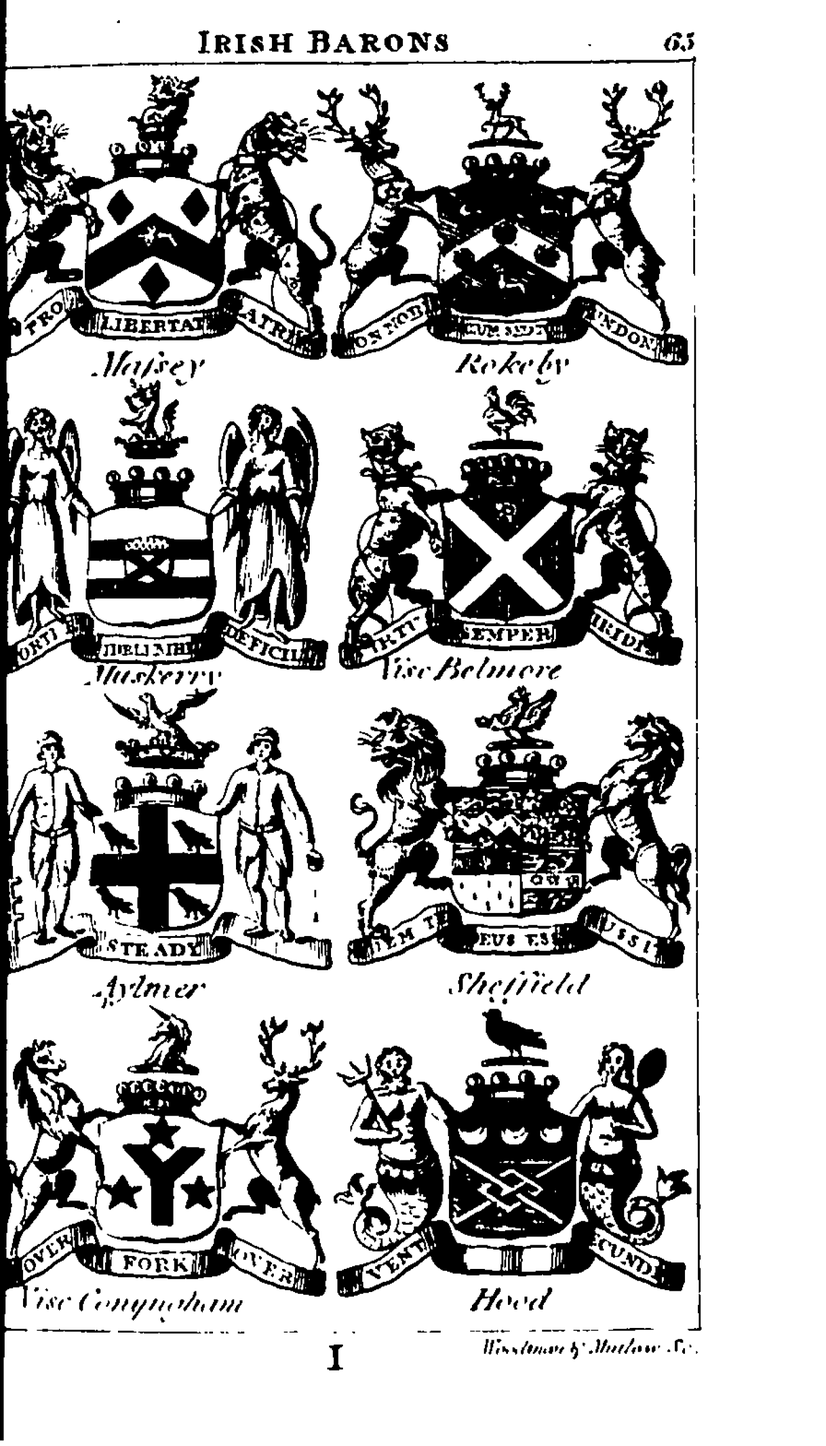coat_of_arms: (335, 682, 691, 1003), (334, 71, 693, 387), (343, 1020, 700, 1328), (337, 390, 693, 689), (9, 70, 338, 391), (14, 691, 331, 1013), (11, 1016, 334, 1330), (8, 391, 330, 692)
